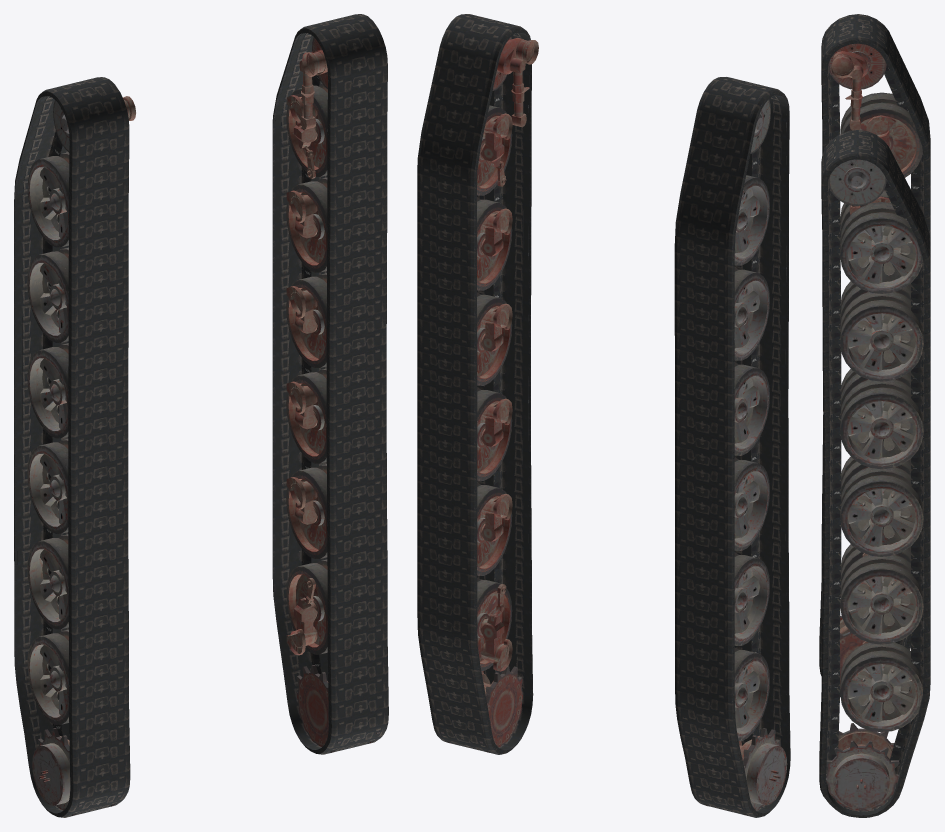
The model's file is Chassis.glb.
3 renders of one model, left to right at view 1: azimuth 30°, elevation 25°; view 2: azimuth 150°, elevation 25°; view 3: azimuth 270°, elevation 25°, orthographic. The views are drawn at different scales.
Visible parts, largest first — view 1: set_0_group_0, set_1_group_0, set_2_group_0, set_3_group_0; view 2: set_0_group_0, set_1_group_0, set_3_group_0, set_2_group_0; view 3: set_3_group_0, set_1_group_0, set_2_group_0, set_0_group_0.
Part boxes in pixels (x1=…): set_0_group_0: x1=14, y1=77, x2=130, y2=817; set_1_group_0: x1=272, y1=14, x2=388, y2=754; set_2_group_0: x1=27, y1=96, x2=135, y2=815; set_3_group_0: x1=286, y1=37, x2=379, y2=752; set_0_group_0: x1=674, y1=77, x2=790, y2=817; set_1_group_0: x1=417, y1=14, x2=533, y2=754; set_3_group_0: x1=441, y1=37, x2=538, y2=752; set_2_group_0: x1=698, y1=99, x2=787, y2=815; set_3_group_0: x1=826, y1=159, x2=923, y2=810; set_1_group_0: x1=819, y1=130, x2=930, y2=817; set_2_group_0: x1=828, y1=43, x2=922, y2=688; set_0_group_0: x1=819, y1=14, x2=930, y2=696.
Bounding box in the file's own units: 3.45 × 7.13 × 1.08.
4 materials, 4 textured.
